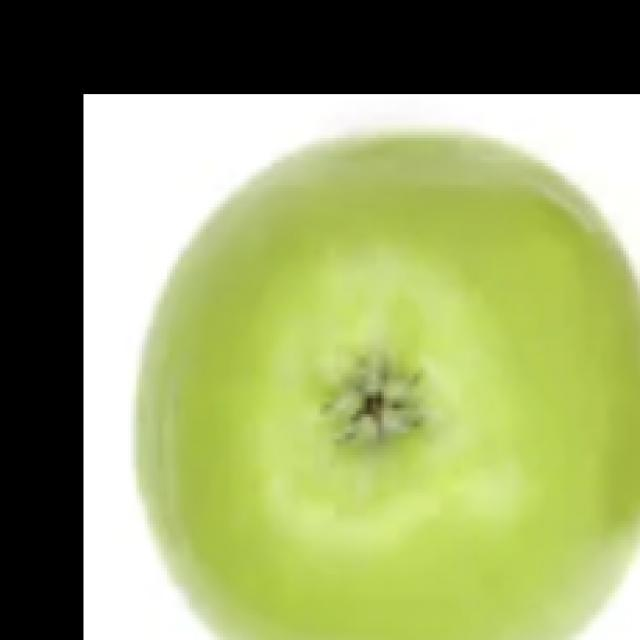Fresh Apple: (132, 122, 640, 640)
